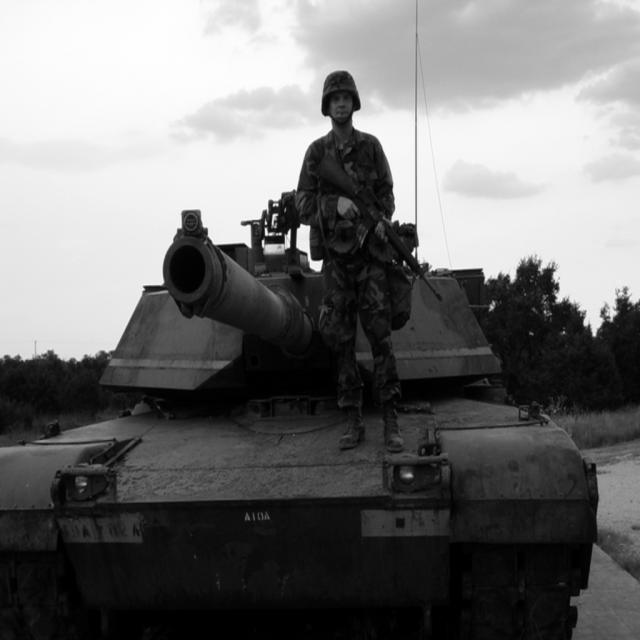tank: (0, 0, 597, 638)
